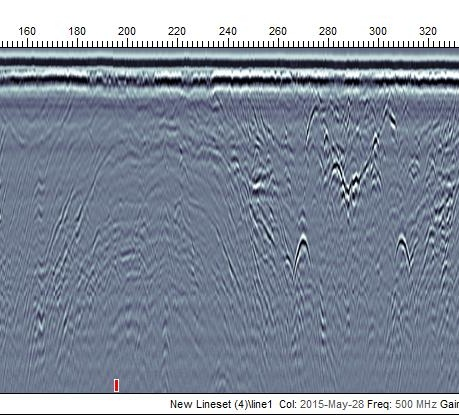hyperbola: (289, 233, 317, 274), (391, 231, 412, 267)
